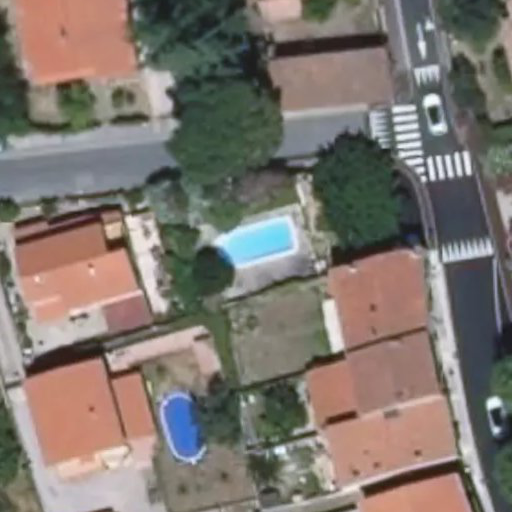pool: (214, 237, 294, 249)
